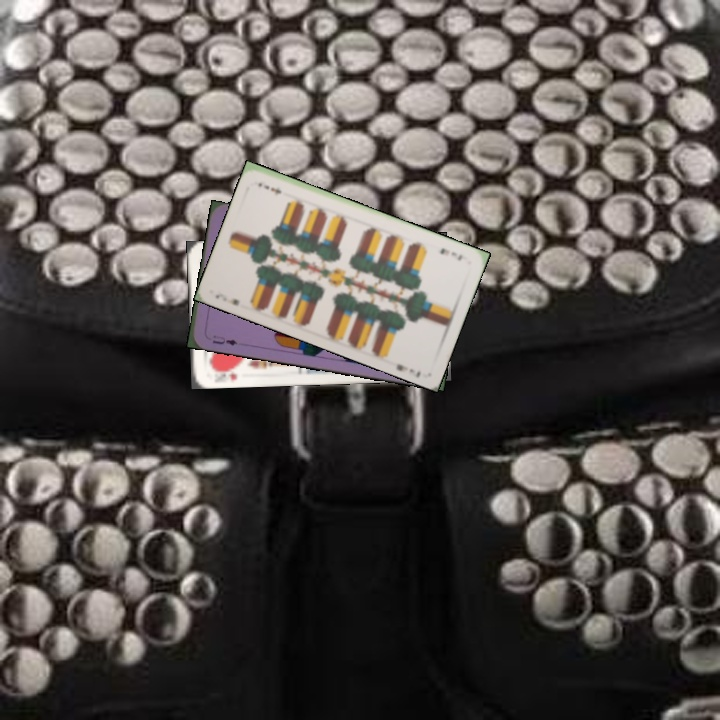E7: (211, 289, 242, 308), (436, 244, 466, 263)
EU: (208, 331, 240, 348)
HK: (208, 363, 240, 383)
